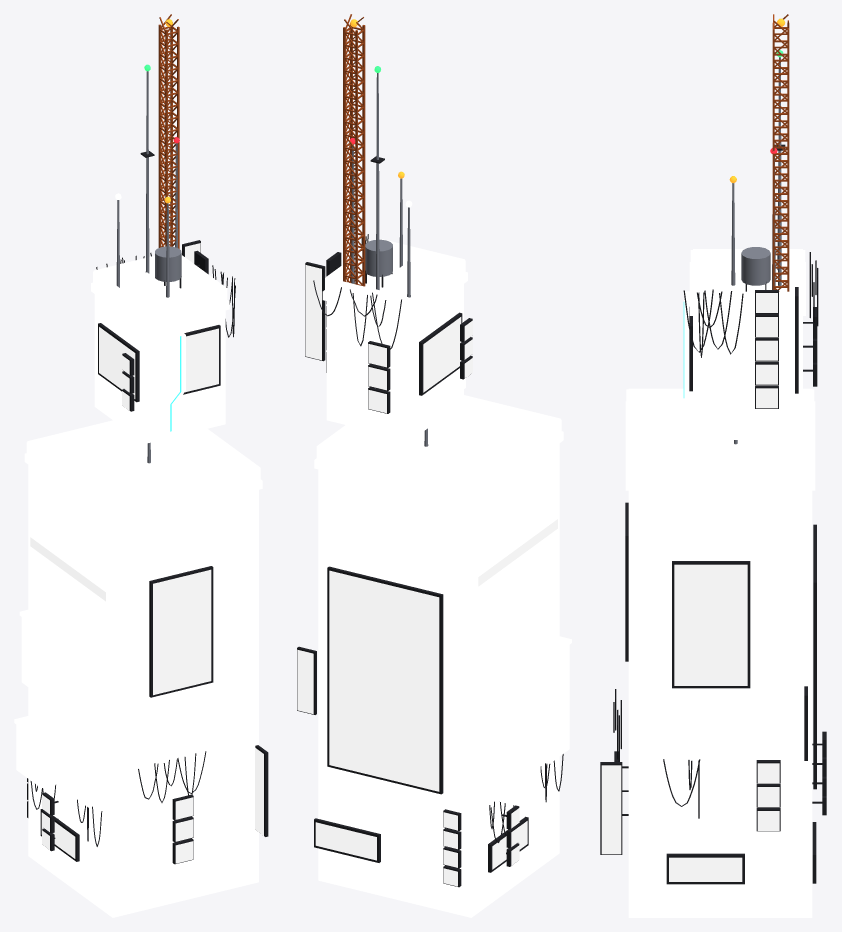
The model's file is k_tower_i.glb.
The picture shows the model from 3 angles, left to right: view 1: azimuth 30°, elevation 25°; view 2: azimuth 150°, elevation 25°; view 3: azimuth 270°, elevation 25°; orthographic projection. The views are drawn at different scales.
Visible parts, largest first — view 1: kit_mid, kit_grey, screen_atlas, metal_dark, steel_orange, metal_light; view 2: kit_mid, screen_atlas, kit_grey, metal_dark, steel_orange, metal_light; view 3: kit_mid, screen_atlas, kit_grey, metal_dark, steel_orange, metal_light.
Part boxes in pixels (x1=…): kit_mid: x1=16, y1=270, x2=258, y2=917; kit_grey: x1=14, y1=255, x2=262, y2=742; screen_atlas: x1=30, y1=243, x2=263, y2=863; metal_dark: x1=27, y1=151, x2=268, y2=864; steel_orange: x1=158, y1=14, x2=179, y2=248; metal_light: x1=116, y1=71, x2=181, y2=463; kit_mid: x1=318, y1=256, x2=569, y2=917; screen_atlas: x1=297, y1=265, x2=557, y2=886; kit_grey: x1=314, y1=239, x2=571, y2=756; metal_dark: x1=297, y1=156, x2=563, y2=887; steel_orange: x1=343, y1=14, x2=365, y2=286; metal_light: x1=351, y1=73, x2=428, y2=446; kit_mid: x1=628, y1=264, x2=812, y2=917; screen_atlas: x1=601, y1=293, x2=779, y2=881; kit_grey: x1=625, y1=249, x2=815, y2=490; metal_dark: x1=600, y1=144, x2=826, y2=884; steel_orange: x1=772, y1=14, x2=789, y2=291; metal_light: x1=731, y1=57, x2=781, y2=444.
Size of the model in its own units: 20.18 by 80.24 by 18.55.
